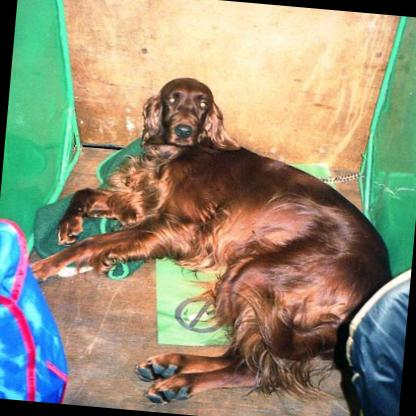Irish_setter: (14, 63, 405, 416)
